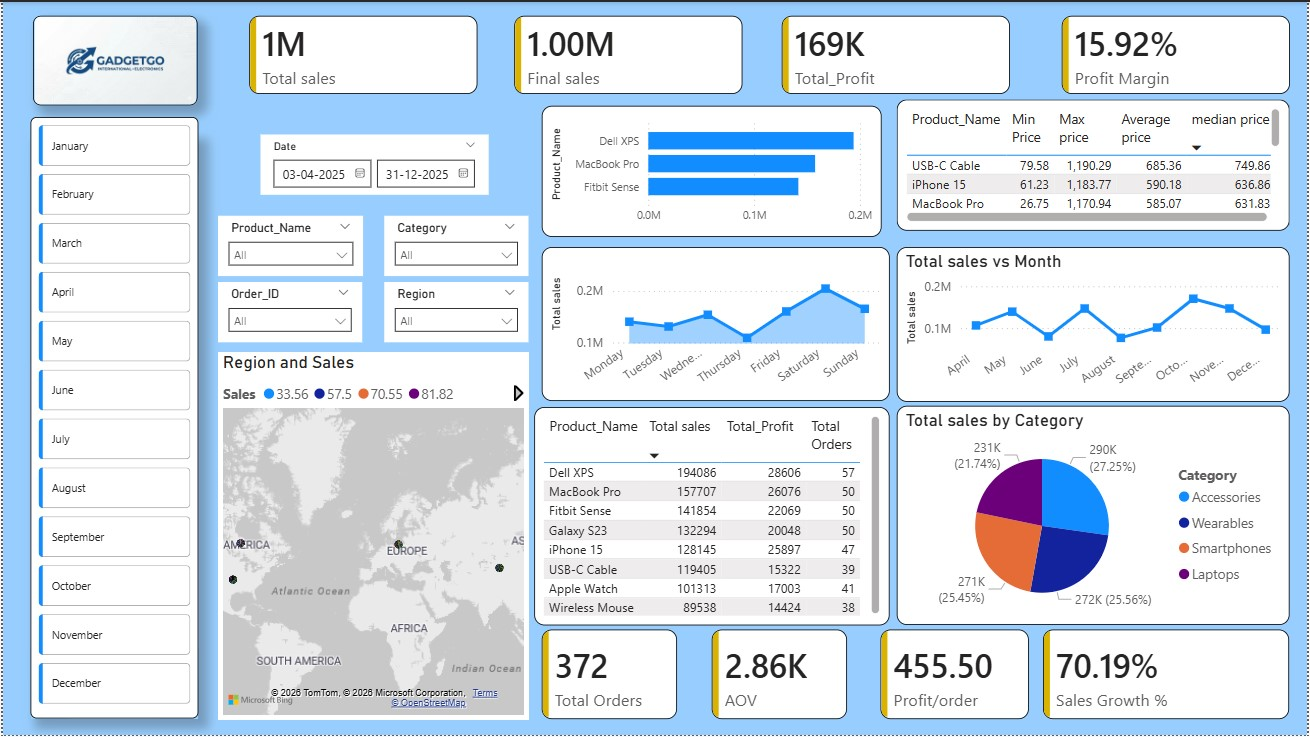

Layout of this report page (visuals, bound fields, positions):
{"tool":"powerbi","page":{"name":"Page 1","canvas":[1280,720],"ordinal":0},"visuals":[{"type":"image","box":[30,13.3,161.7,88.3],"z":0},{"type":"shape","box":[26.7,130,165,573.3],"z":1000},{"type":"advancedSlicerVisual","fields":{"Values":["Custom Calender.Date.Variation.Date Hierarchy.Month"]},"box":[26.7,113.3,165,590],"z":2000},{"type":"cardVisual","fields":{"Data":["Sheet1.Total sales"]},"box":[241.5,13.7,223.7,76.8],"z":3000},{"type":"cardVisual","fields":{"Data":["Sheet1.Final sales"]},"box":[502.2,13.7,223.7,76.8],"z":4000},{"type":"cardVisual","fields":{"Data":["Sheet1.Total_Profit"]},"box":[764.3,13.7,223.7,76.8],"z":5000},{"type":"cardVisual","fields":{"Data":["Sheet1.Profit Margin"]},"box":[1038.8,13.7,223.7,76.8],"z":6000},{"type":"cardVisual","fields":{"Data":["Sheet1.Total Orders"]},"box":[528.3,616.1,133.1,87.8],"z":7000},{"type":"cardVisual","fields":{"Data":["Sheet1.AOV"]},"box":[695.7,616.1,133.1,87.8],"z":8000},{"type":"cardVisual","fields":{"Data":["Sheet1.Profit Per Order"]},"box":[861.8,616.1,145.5,87.8],"z":9000},{"type":"cardVisual","fields":{"Data":["Sheet1.Sales Growth %"]},"box":[1020.9,616.1,241.5,87.8],"z":10000},{"type":"lineChart","title":"Total sales vs Day","fields":{"Category":["Custom Calender.Day Name"],"Y":["Sheet1.Total sales"]},"box":[528.3,240.1,341.7,150.9],"z":11000},{"type":"lineChart","title":"Total sales vs Month","fields":{"Y":["Sheet1.Total sales"],"Category":["Custom Calender.Date.Variation.Date Hierarchy.Month","Custom Calender.Date.Variation.Date Hierarchy.Quarter"]},"box":[876.8,240.1,385.6,152.3],"z":12000},{"type":"map","fields":{"Category":["Sheet1.Region"],"Series":["Sheet1.Sales"]},"box":[211.3,343.1,304.6,360.9],"z":13000},{"type":"tableEx","fields":{"Values":["Sheet1.Product_Name","Sheet1.Total sales","Sheet1.Total_Profit","Sheet1.Total Orders"]},"box":[521.4,397.9,348.5,214.1],"z":14000},{"type":"pieChart","fields":{"Category":["Sheet1.Category"],"Y":["Sheet1.Total sales"]},"box":[876.8,396.6,385.6,215.4],"z":15000},{"type":"slicer","fields":{"Values":["Sheet1.Product_Name"]},"box":[211.3,209.9,142.7,59],"z":16000},{"type":"slicer","fields":{"Values":["Sheet1.Category"]},"box":[374.6,209.9,141.3,59],"z":17000},{"type":"slicer","fields":{"Values":["Sheet1.Region"]},"box":[374.6,274.4,141.3,59],"z":18000},{"type":"slicer","fields":{"Values":["Sheet1.Order_ID"]},"box":[211.3,274.4,141.3,59],"z":19000},{"type":"slicer","fields":{"Values":["Custom Calender.Date"]},"box":[252.5,130.4,223.7,59],"z":20000},{"type":"clusteredBarChart","fields":{"Y":["Sum(Sheet1.Sales)"],"Category":["Sheet1.Product_Name"]},"box":[528.3,101.5,333.4,129],"z":21000},{"type":"tableEx","fields":{"Values":["Sheet1.Product_Name","Sheet1.Minimum Price","Sheet1.Max price","Sheet1.Average price","Sheet1.medianprice"]},"box":[876.8,96.1,385.6,129],"z":22000}]}

Visuals, with their boxes in screenshot pixels (x1, y1, x2, y2), scaled from the page's 1280x720 canvas onto the 1310x737 screenshot:
image: select_region(31, 14, 196, 104)
shape: select_region(27, 133, 196, 720)
advancedSlicerVisual - Custom Calender.Date.Variation.Date Hierarchy.Month: select_region(27, 116, 196, 720)
cardVisual - Sheet1.Total sales: select_region(247, 14, 476, 93)
cardVisual - Sheet1.Final sales: select_region(514, 14, 743, 93)
cardVisual - Sheet1.Total_Profit: select_region(782, 14, 1011, 93)
cardVisual - Sheet1.Profit Margin: select_region(1063, 14, 1292, 93)
cardVisual - Sheet1.Total Orders: select_region(541, 631, 677, 721)
cardVisual - Sheet1.AOV: select_region(712, 631, 848, 721)
cardVisual - Sheet1.Profit Per Order: select_region(882, 631, 1031, 721)
cardVisual - Sheet1.Sales Growth %: select_region(1045, 631, 1292, 721)
"Total sales vs Day" lineChart: select_region(541, 246, 890, 400)
"Total sales vs Month" lineChart: select_region(897, 246, 1292, 402)
map - Sheet1.Region x Sheet1.Sales: select_region(216, 351, 528, 721)
tableEx - Sheet1.Product_Name x Sheet1.Total sales: select_region(534, 407, 890, 626)
pieChart - Sheet1.Category x Sheet1.Total sales: select_region(897, 406, 1292, 626)
slicer - Sheet1.Product_Name: select_region(216, 215, 362, 275)
slicer - Sheet1.Category: select_region(383, 215, 528, 275)
slicer - Sheet1.Region: select_region(383, 281, 528, 341)
slicer - Sheet1.Order_ID: select_region(216, 281, 361, 341)
slicer - Custom Calender.Date: select_region(258, 133, 487, 194)
clusteredBarChart - Sum(Sheet1.Sales) x Sheet1.Product_Name: select_region(541, 104, 882, 236)
tableEx - Sheet1.Product_Name x Sheet1.Minimum Price: select_region(897, 98, 1292, 230)
